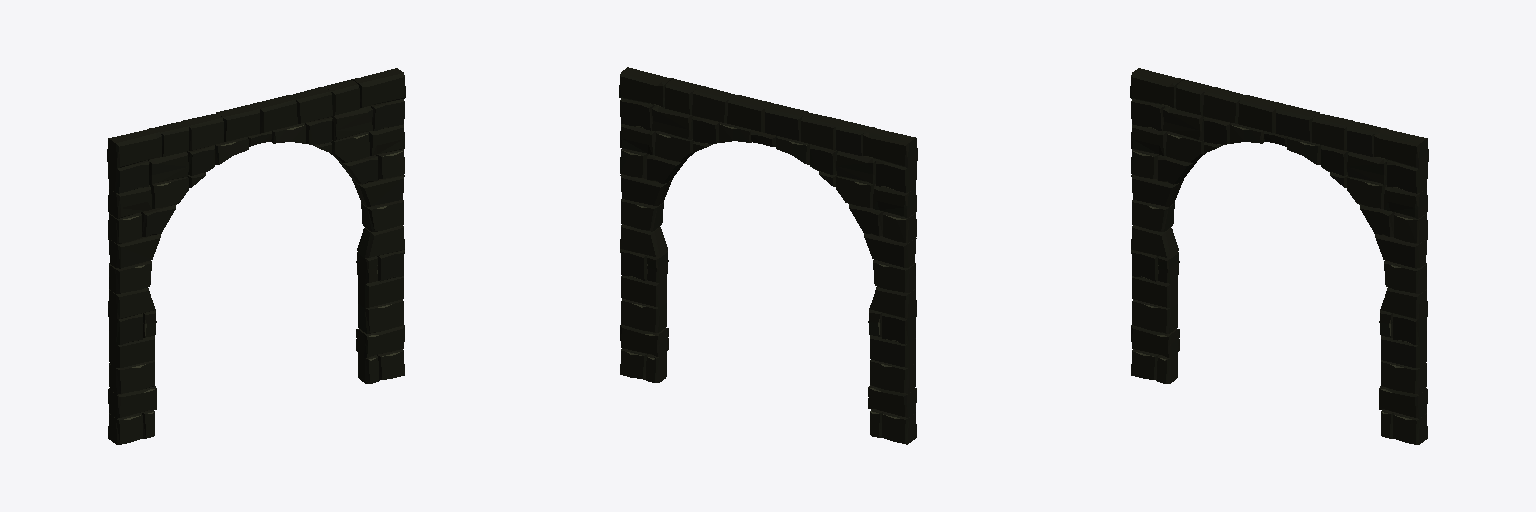
Rendered from Wall_ArchRound.obj.
3 renders of one model, left to right at view 1: azimuth 30°, elevation 25°; view 2: azimuth 150°, elevation 25°; view 3: azimuth 330°, elevation 25°, orthographic.
Visible parts, largest first — view 1: Wall_ArchRound.001; view 2: Wall_ArchRound.001; view 3: Wall_ArchRound.001.
Boxes of the visible parts, <box> form: Wall_ArchRound.001: <box>107,68,405,444</box>; Wall_ArchRound.001: <box>619,67,917,444</box>; Wall_ArchRound.001: <box>1130,68,1428,444</box>.
Bounding box in the file's own units: 4 × 3.99 × 0.31.